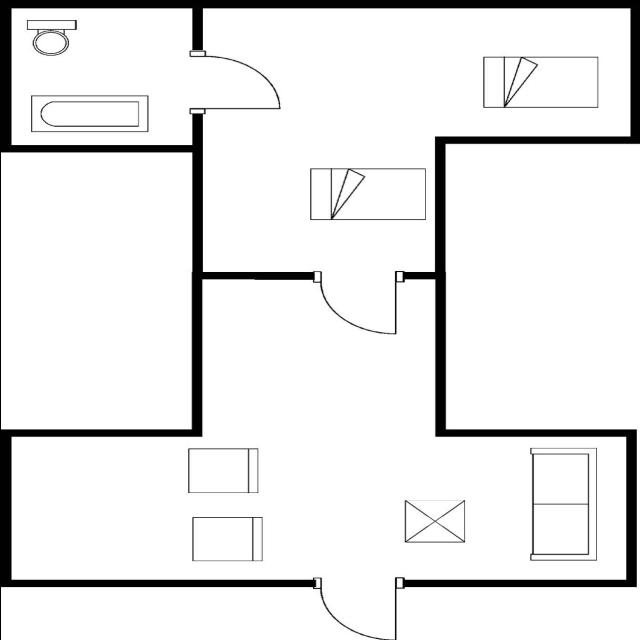bed: (476, 51, 606, 112), (302, 162, 430, 222)
coffee_table: (398, 494, 471, 546)
large_sink: (17, 15, 80, 60)
large_sofa: (522, 444, 604, 564)
small_sofa: (184, 510, 272, 564), (182, 443, 266, 497)
tub: (25, 88, 153, 137)
